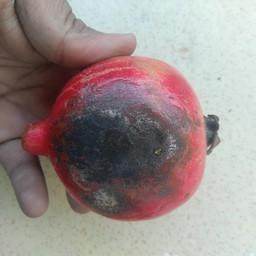Bad_pomegranate: (30, 61, 215, 220)
